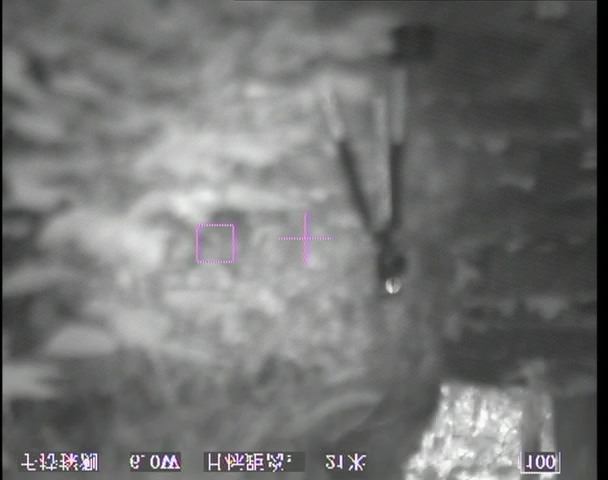my: (382, 274, 405, 295)
